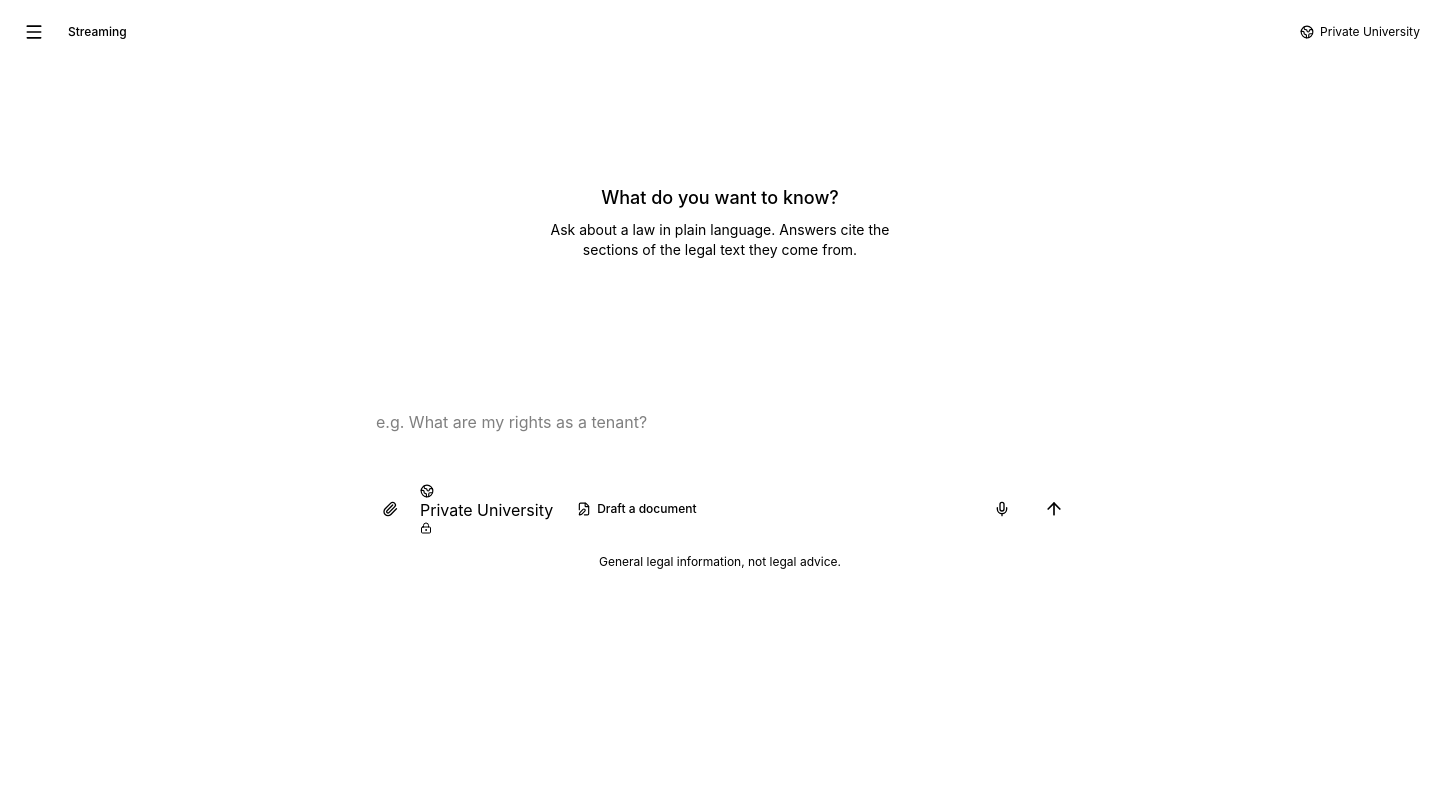
Scenario: provisional ordinary streaming › completes at validated done without waiting for EOF or consuming a later failure
The image size is (1440, 810).
In the text box: [720, 436] box [364, 396, 1076, 476], type "What are my rights?"
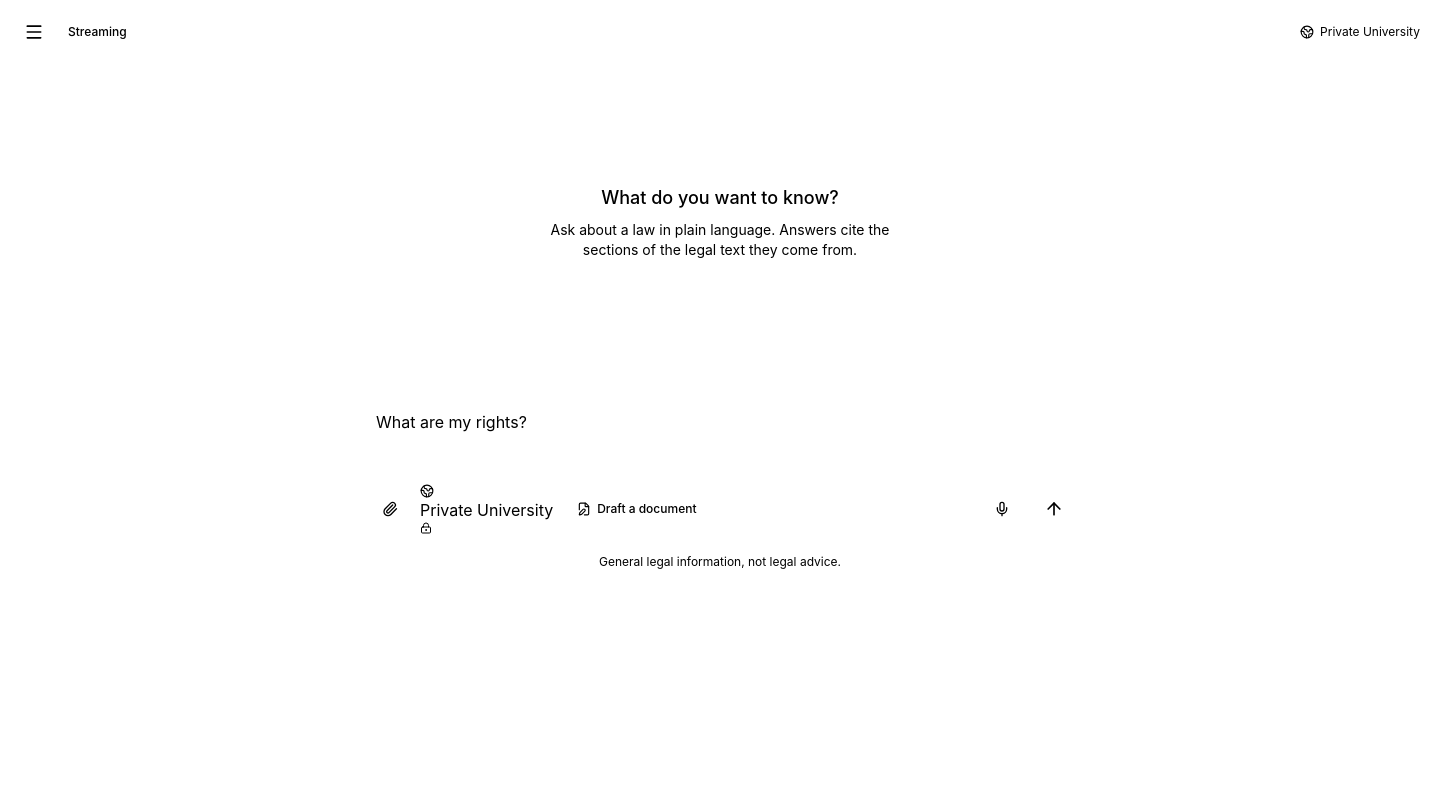
Click the button named "Send question": [1054, 509] box [1032, 487, 1076, 531]
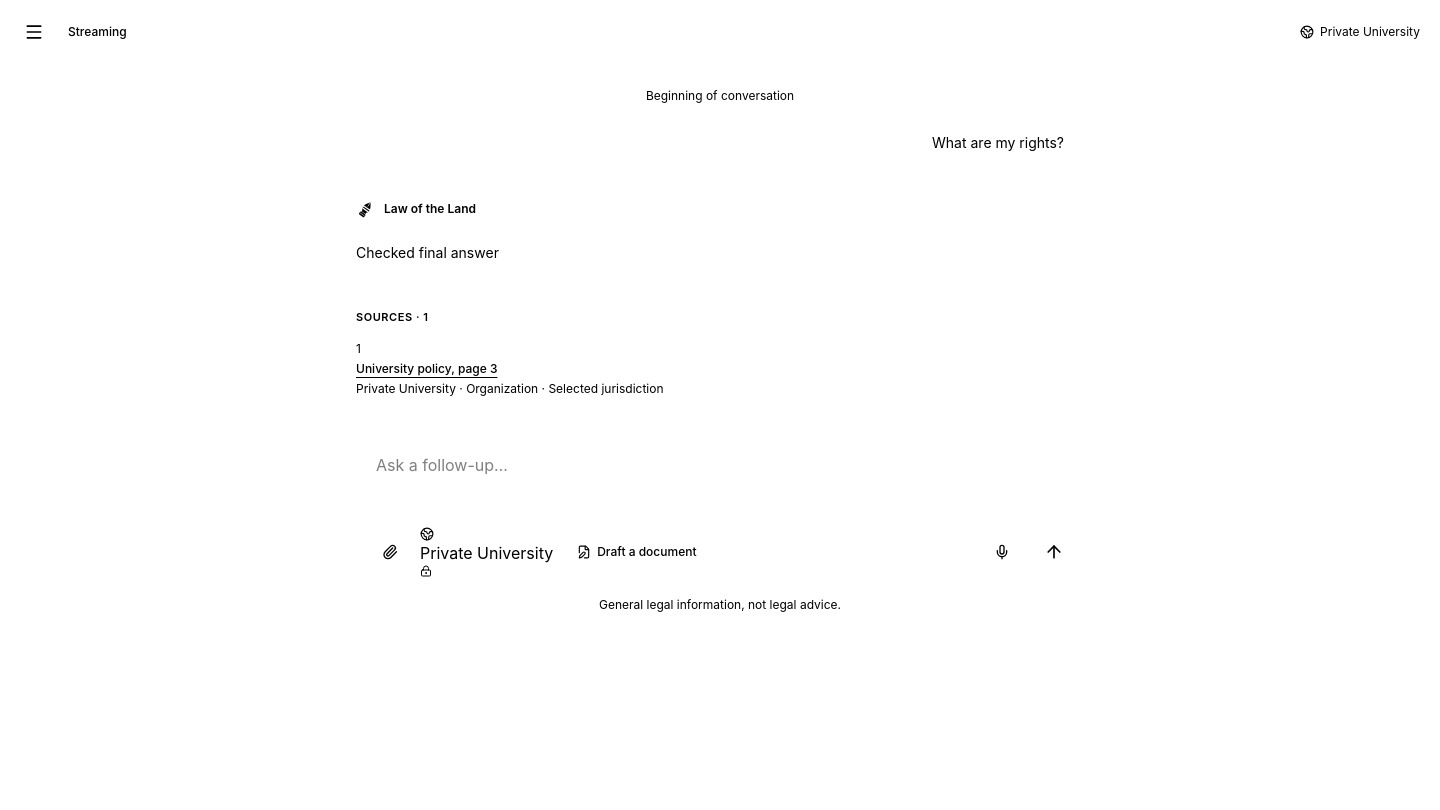
Expected: the text box is enabled, [364, 439, 1076, 519]
Now the text "Checked final answer" is shown, box [356, 244, 499, 261]
Now the button named "Send question" is disabled, box [1032, 530, 1076, 574]
